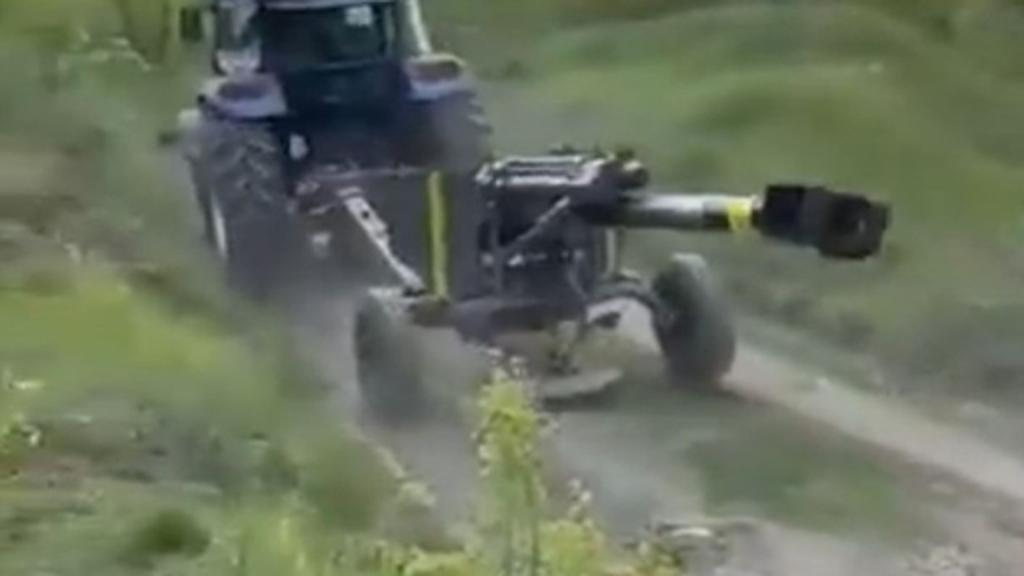ART: (348, 144, 884, 410)
